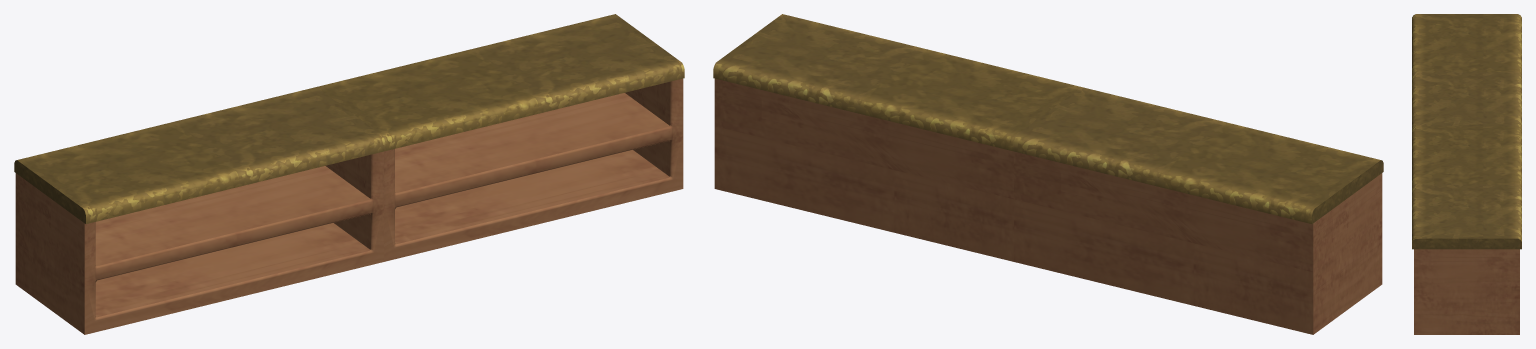
File: DI_062_cabinet_var02.glb
The picture shows the model from 3 angles, left to right: view 1: azimuth 30°, elevation 25°; view 2: azimuth 150°, elevation 25°; view 3: azimuth 270°, elevation 25°; orthographic projection. The views are drawn at different scales.
Visible parts, largest first — view 1: Cabinet.001, Cabinet.006; view 2: Cabinet.001, Cabinet.006; view 3: Cabinet.006, Cabinet.001.
Part boxes in pixels (box(x1,y1,x2,y2)): Cabinet.001: box(14, 87, 385, 334); Cabinet.006: box(316, 14, 684, 261); Cabinet.001: box(1012, 87, 1383, 334); Cabinet.006: box(713, 14, 1081, 261); Cabinet.006: box(1412, 126, 1521, 334); Cabinet.001: box(1412, 14, 1521, 129).
Bounding box in the file's own units: 3.75 × 0.75 × 0.7743.
2 materials, 2 textured.
